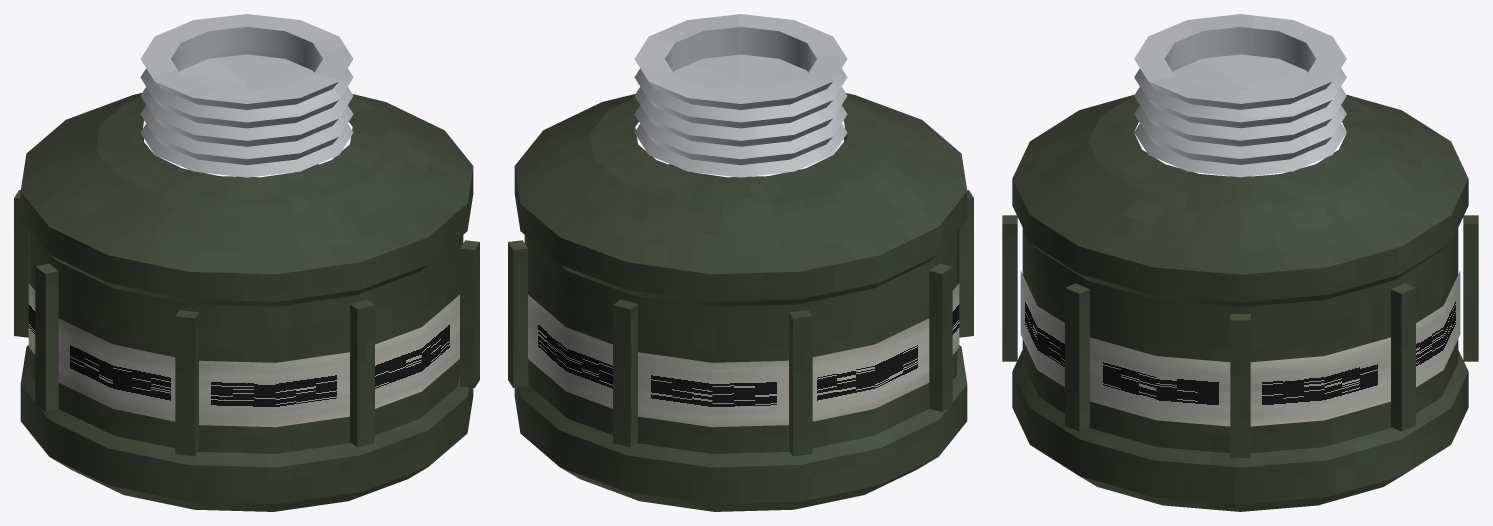
Rendered from item_mask_filter.glb.
3 renders of one model, left to right at view 1: azimuth 30°, elevation 25°; view 2: azimuth 150°, elevation 25°; view 3: azimuth 270°, elevation 25°, orthographic.
Parts seen in each view (by area): view 1: filter; view 2: filter; view 3: filter.
Part boxes in pixels (<box>): filter: <box>14,14,479,511</box>; filter: <box>508,14,973,511</box>; filter: <box>1002,14,1478,511</box>.
Size of the model in its own units: 0.094 by 0.08 by 0.094.
3 materials, 3 textured.
